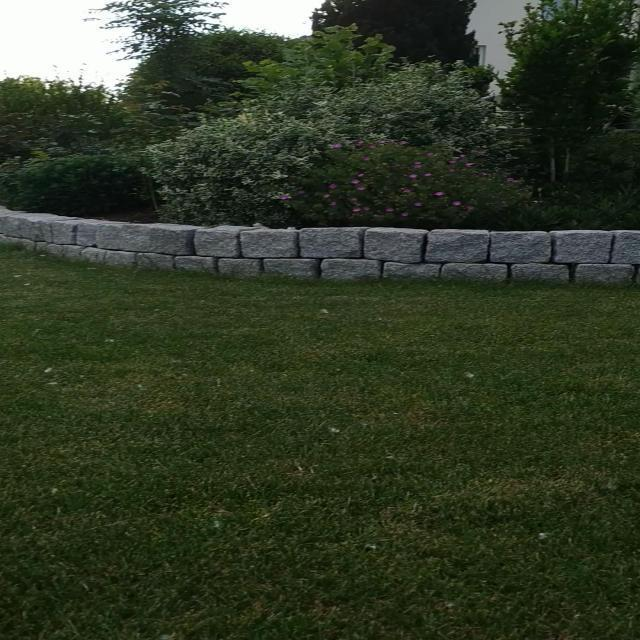lawn: (0, 247, 640, 640)
